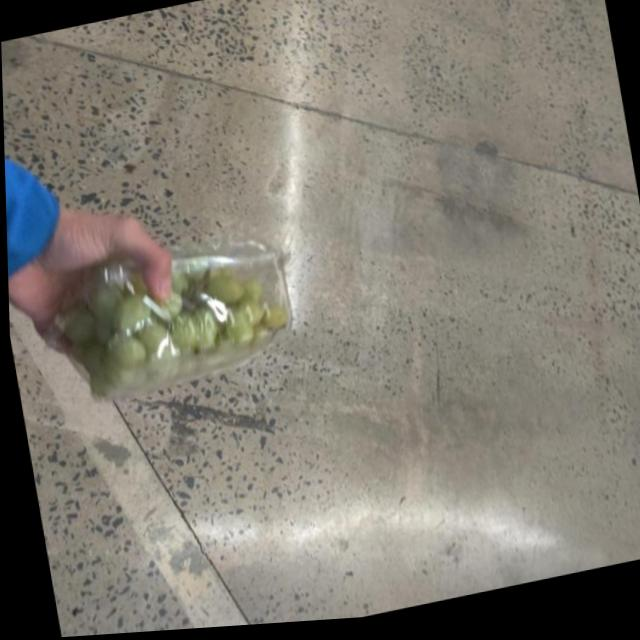Grapes: (40, 231, 306, 412)
